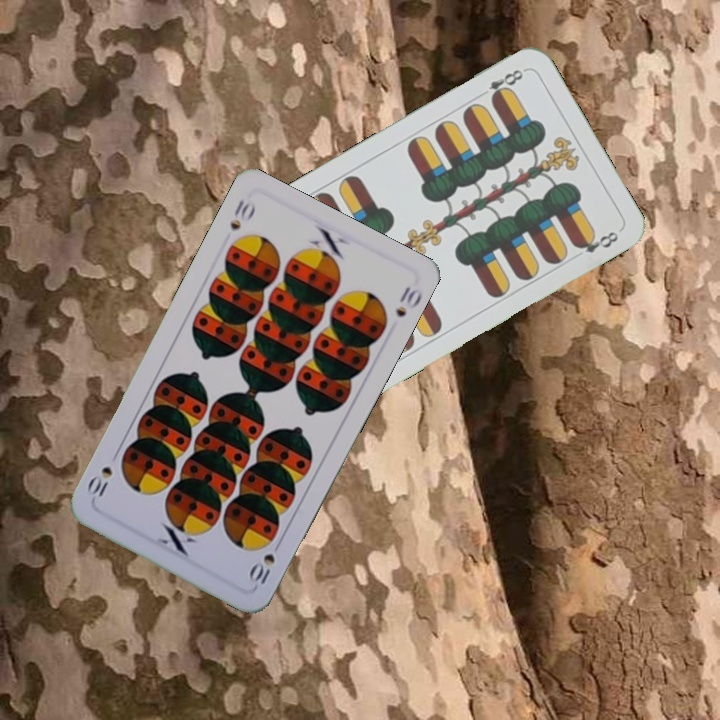E8: (474, 65, 528, 104)
S10: (244, 535, 285, 590), (226, 195, 258, 233)
